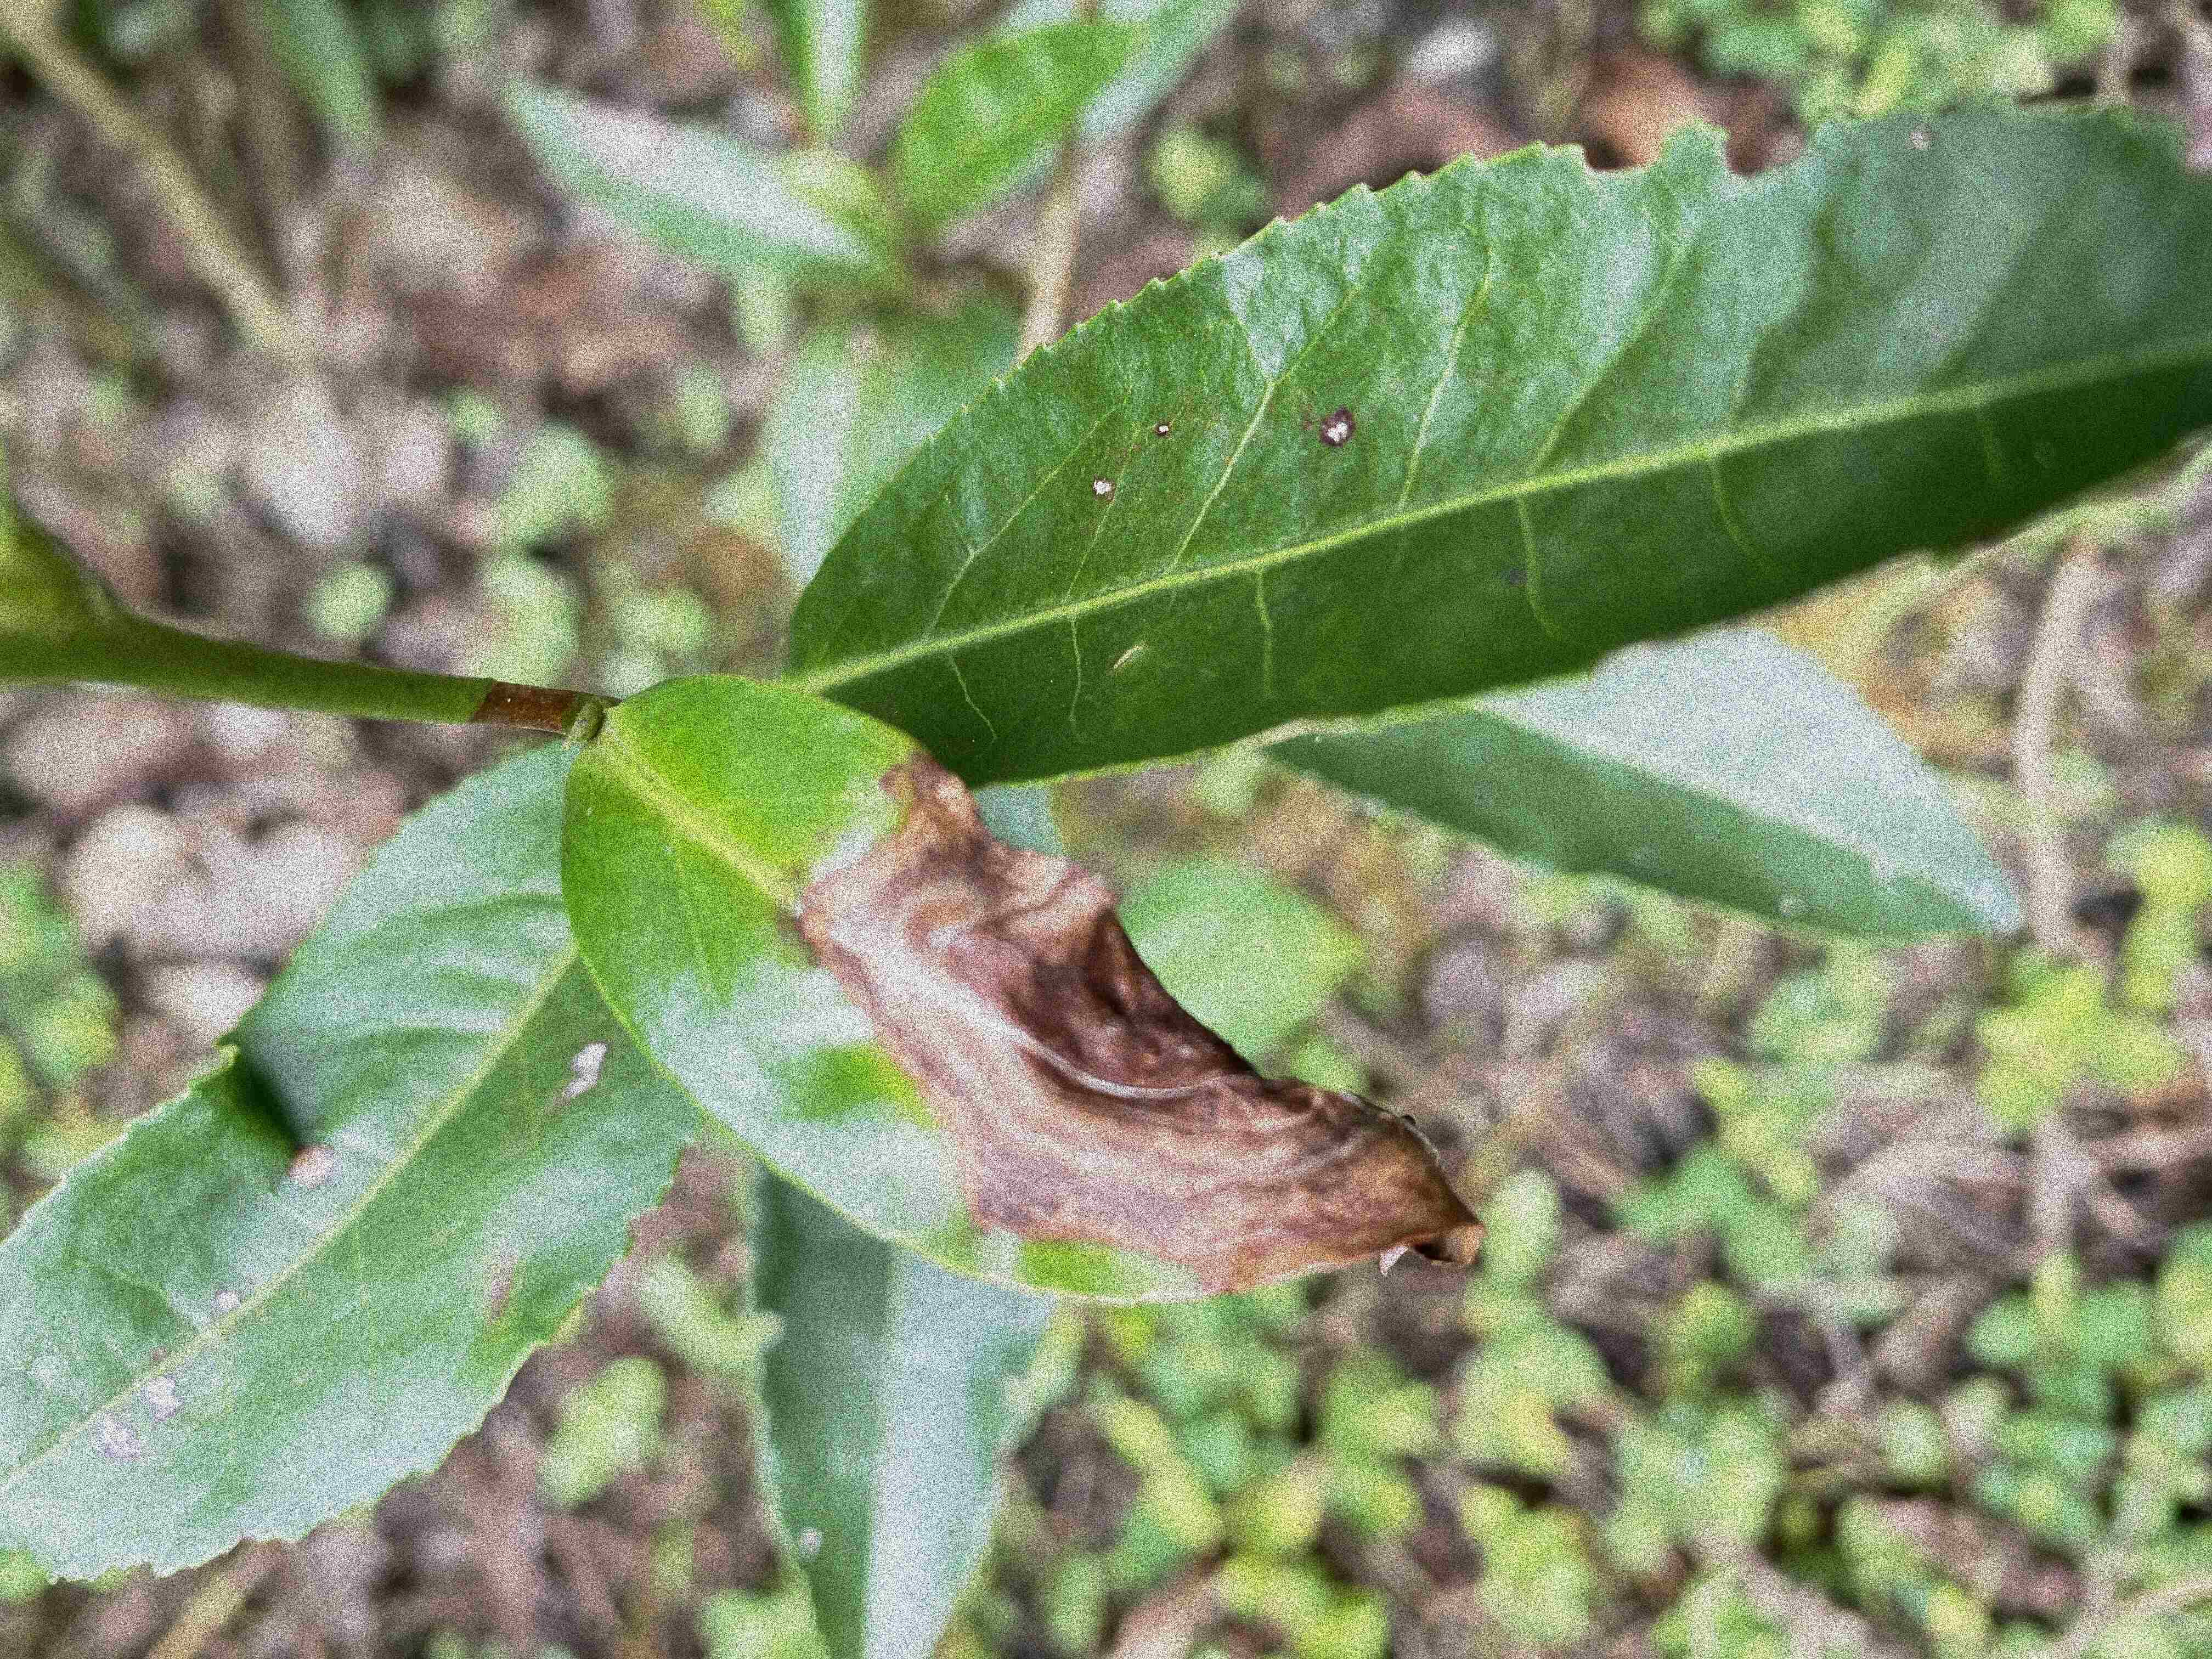tanju_high: (557, 673, 1489, 1307)
tanju_low: (2, 734, 705, 1588)
